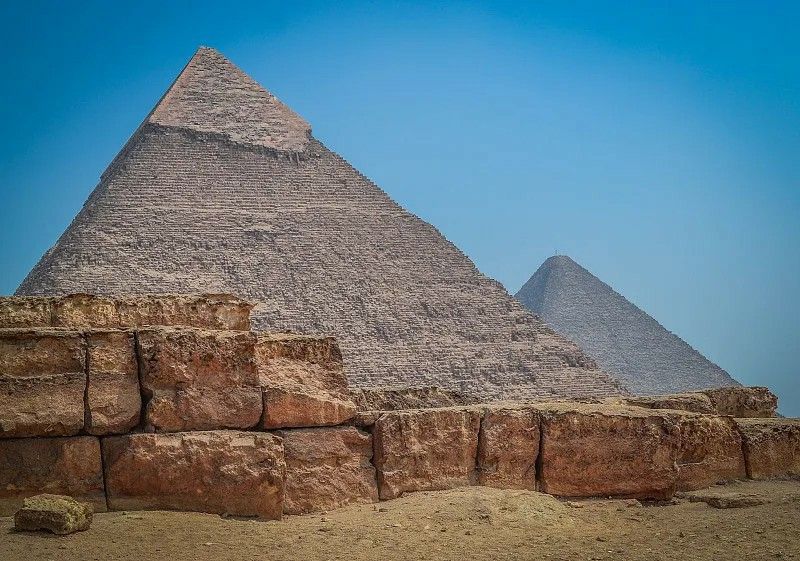Pyramid: (14, 46, 636, 401), (516, 254, 746, 393)
